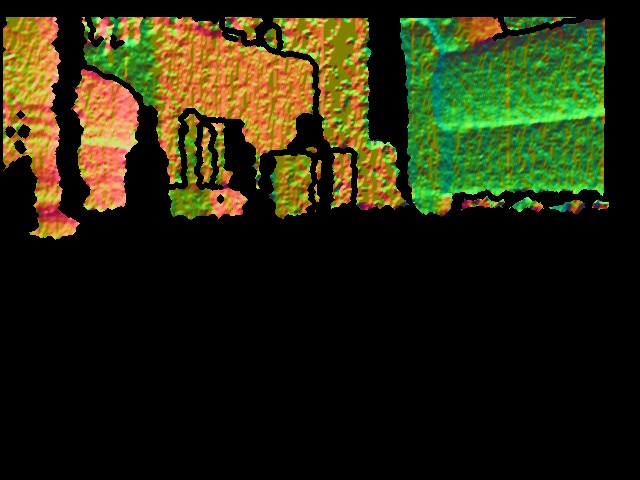station: (168, 108, 246, 219)
